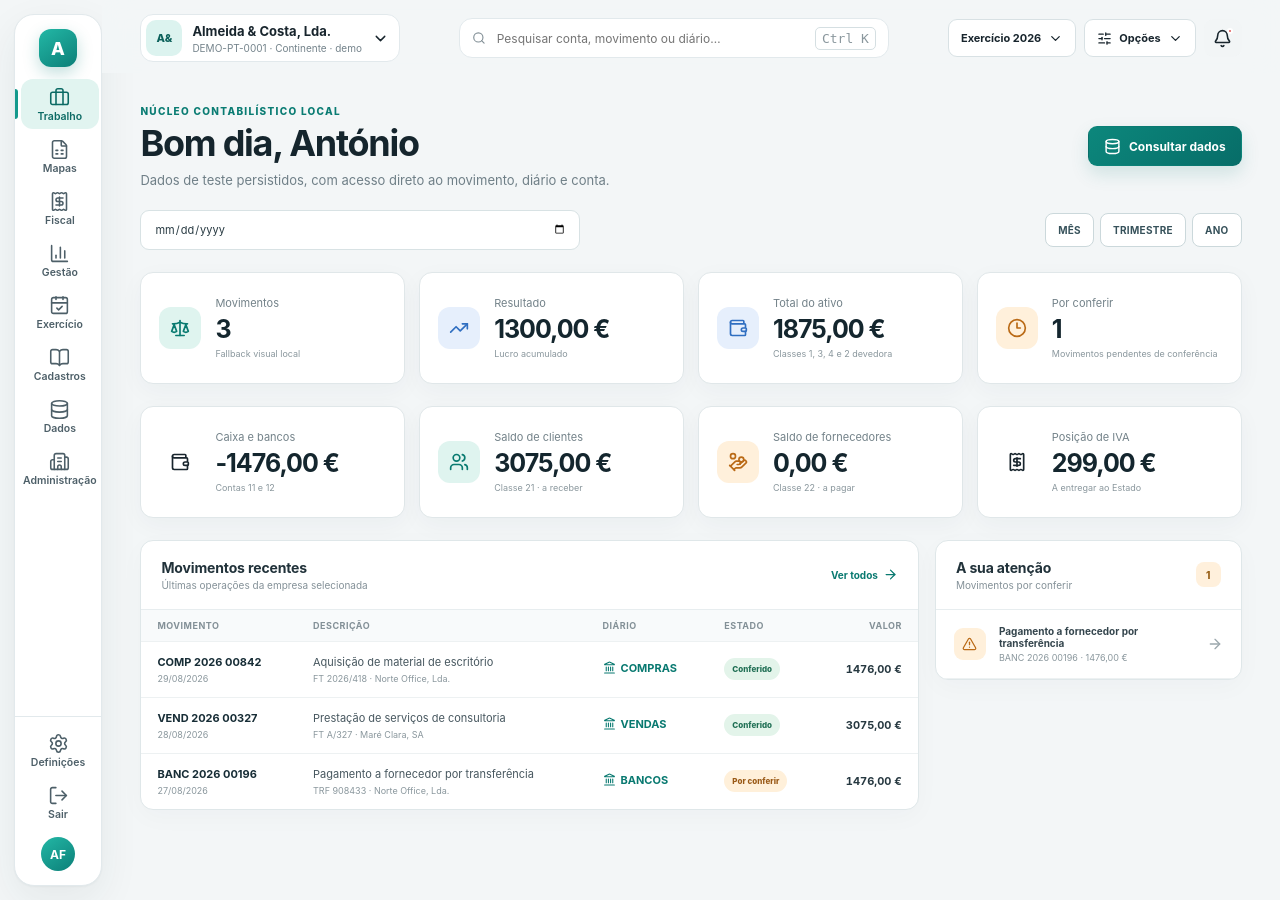
Test case: App › jumps to an account from the top-bar search
The image size is (1280, 900).
In the dropdown named "Pesquisar conta": (650, 38) [495,19,806,57], type "6221"
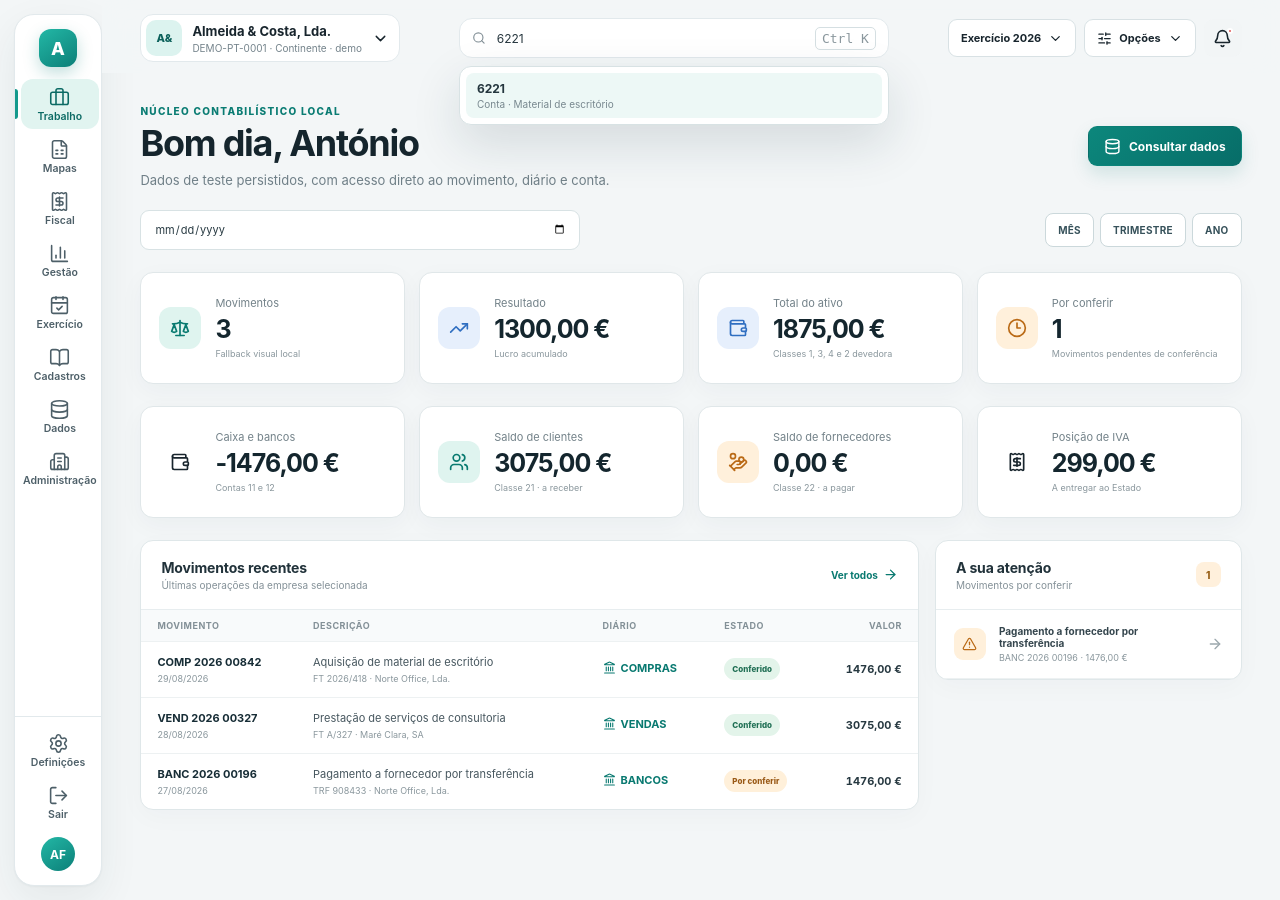
Click the option "6221 Conta · Material de escritório": (545, 104) [466,73,882,118]
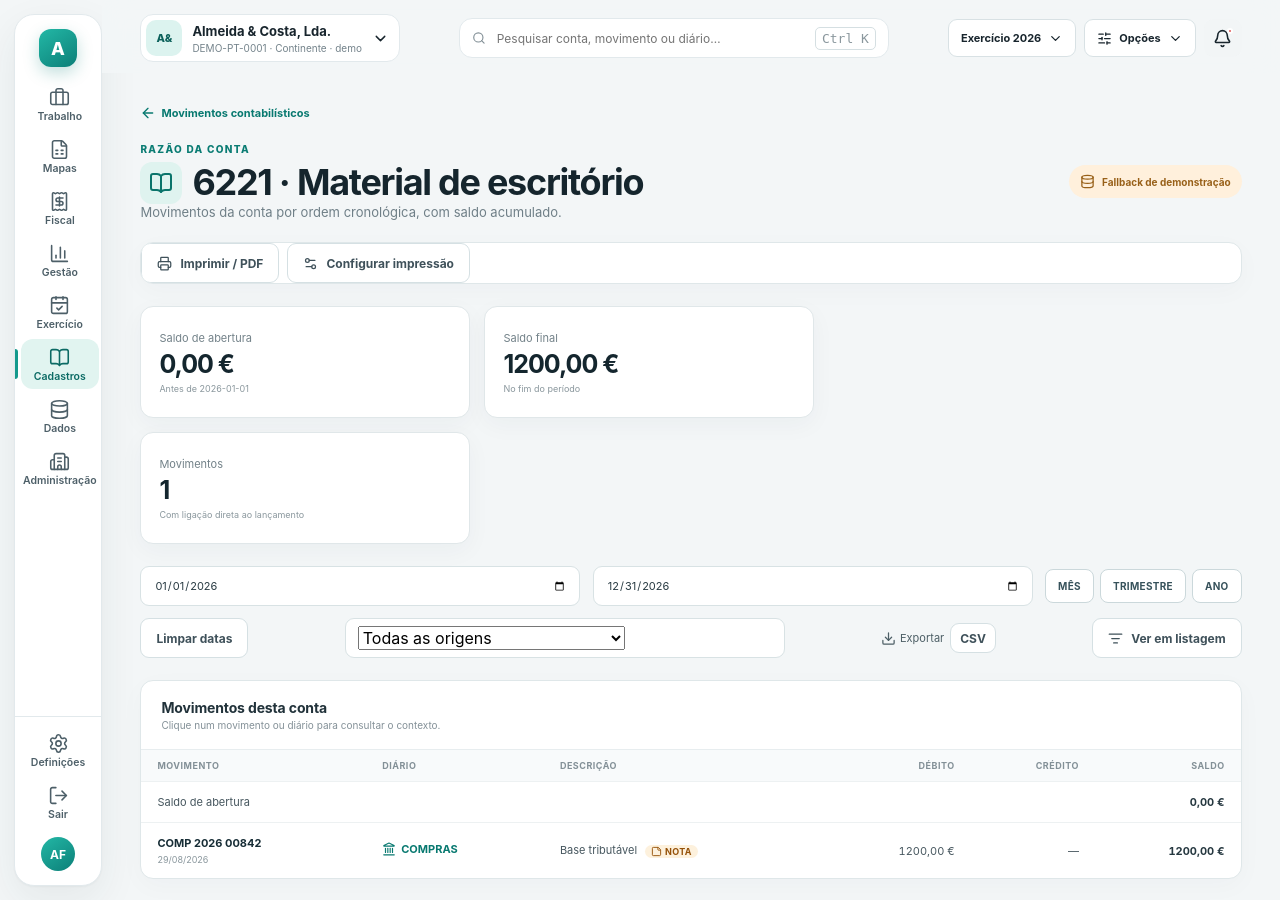
Result: the heading "6221 · Material de escritório" is shown at [192,163,643,203]
Result: the option "Conta ·" is gone
Result: the dropdown named "Pesquisar conta" is empty at [495,19,806,57]
